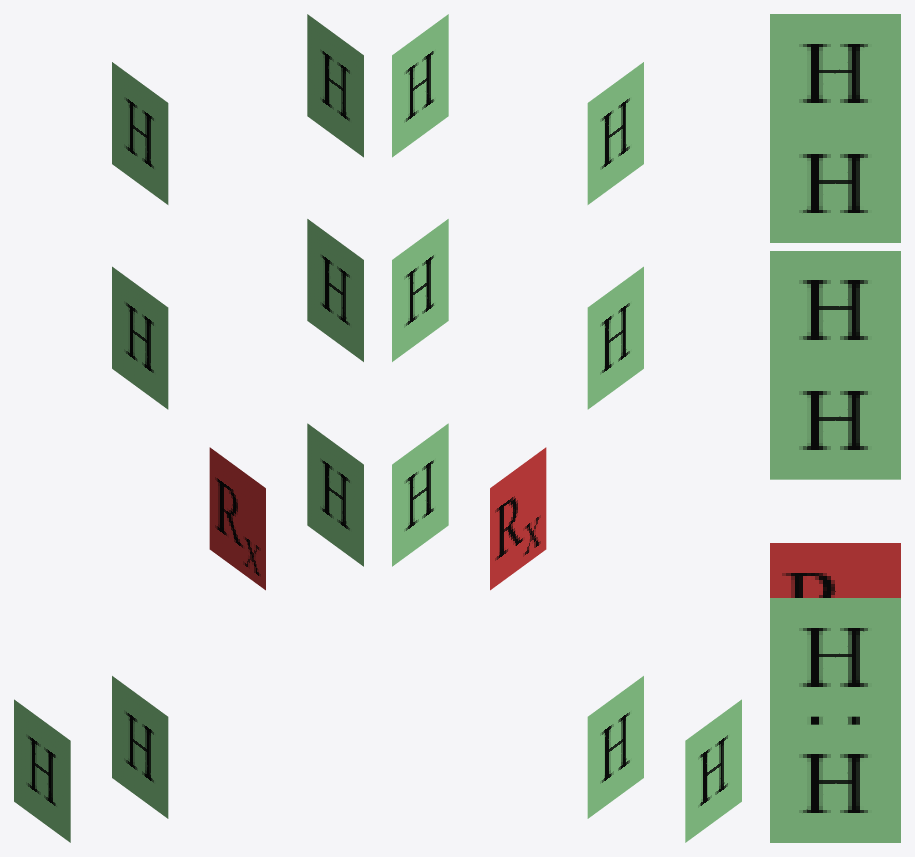
Rendered from repeat.gltf.
The picture shows the model from 3 angles, left to right: view 1: azimuth 30°, elevation 25°; view 2: azimuth 150°, elevation 25°; view 3: azimuth 270°, elevation 25°; orthographic projection. The views are drawn at different scales.
Size of the model in its own units: 3 by 7 by 1.
1 material, 1 textured.
